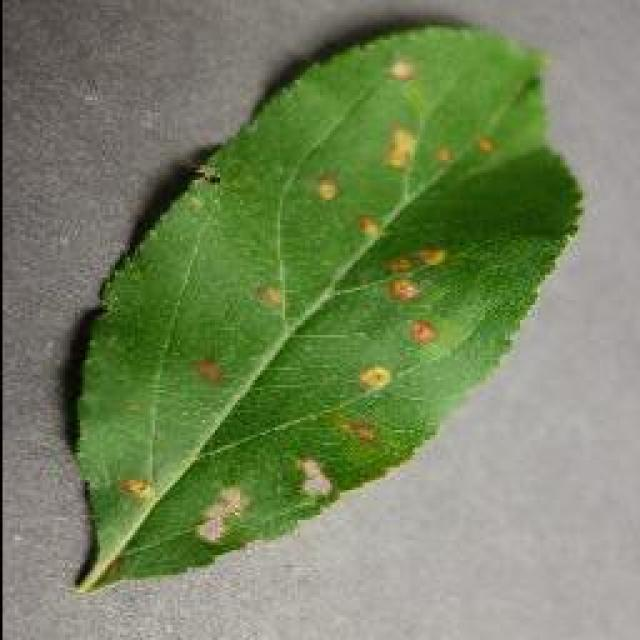apple healthy: (67, 15, 585, 593)
